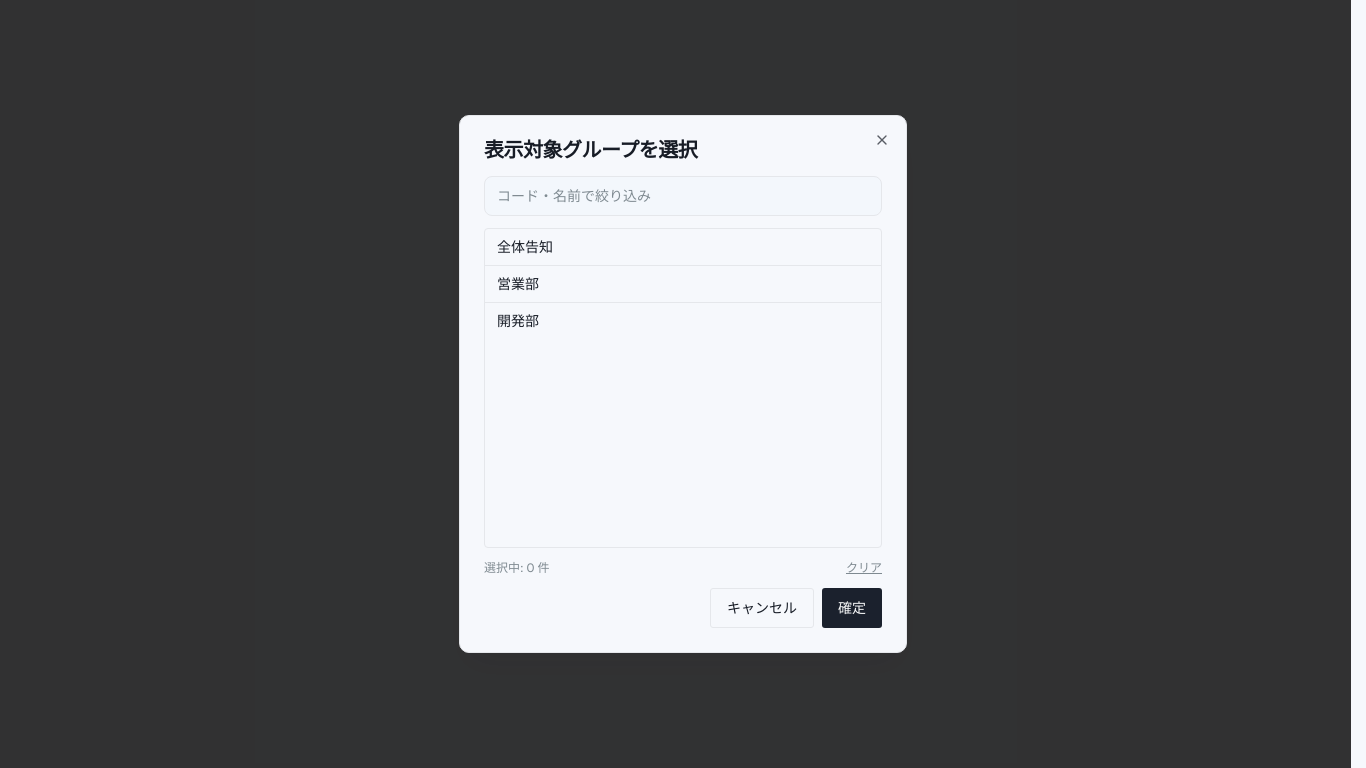
RolePickerDialog › コード・名前で絞り込みが効くこと
This screenshot has width=1366, height=768.
Step 1. Type "営業" into the field with placeholder "コード・名前で絞り込み" → (683, 196), box [484,176,882,216]
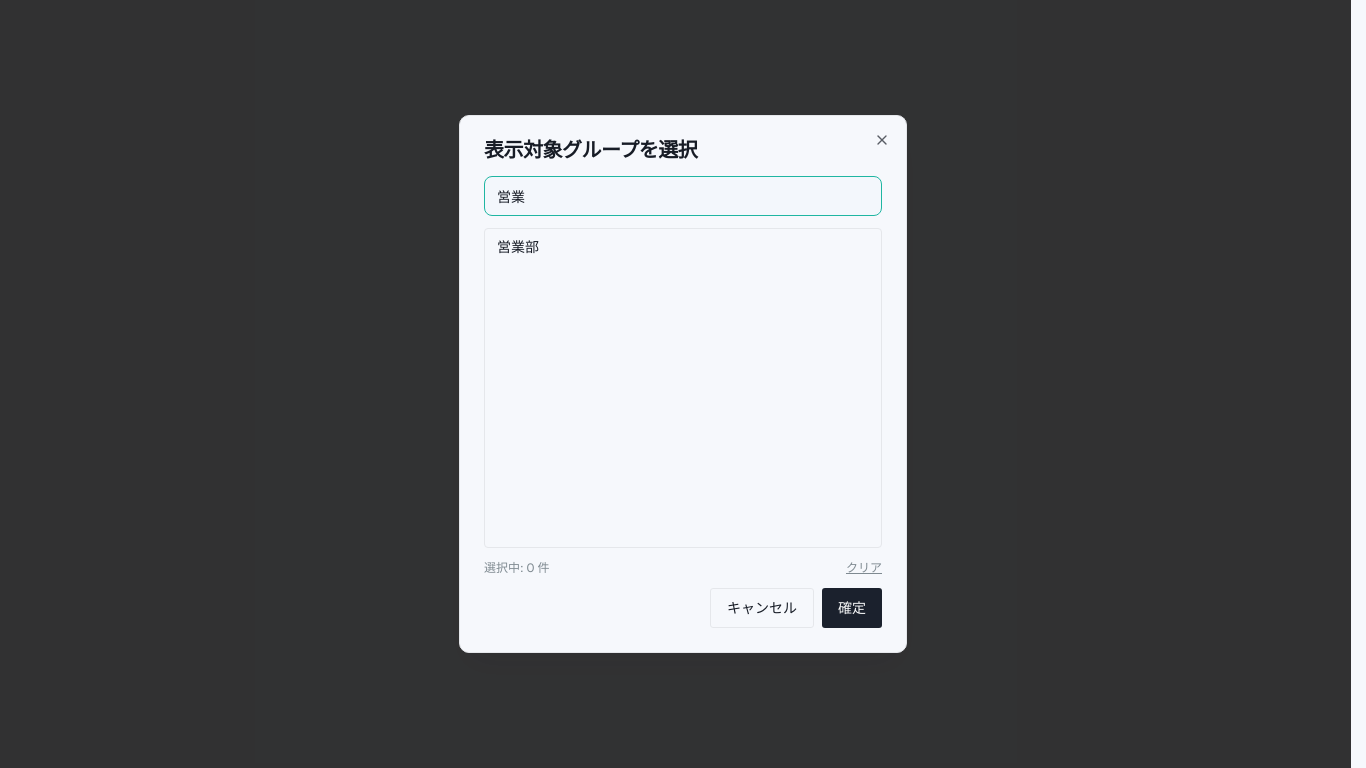
Expected: the text "営業部" is shown, [497,237,539,257]
Expected: the button "開発部" is gone
